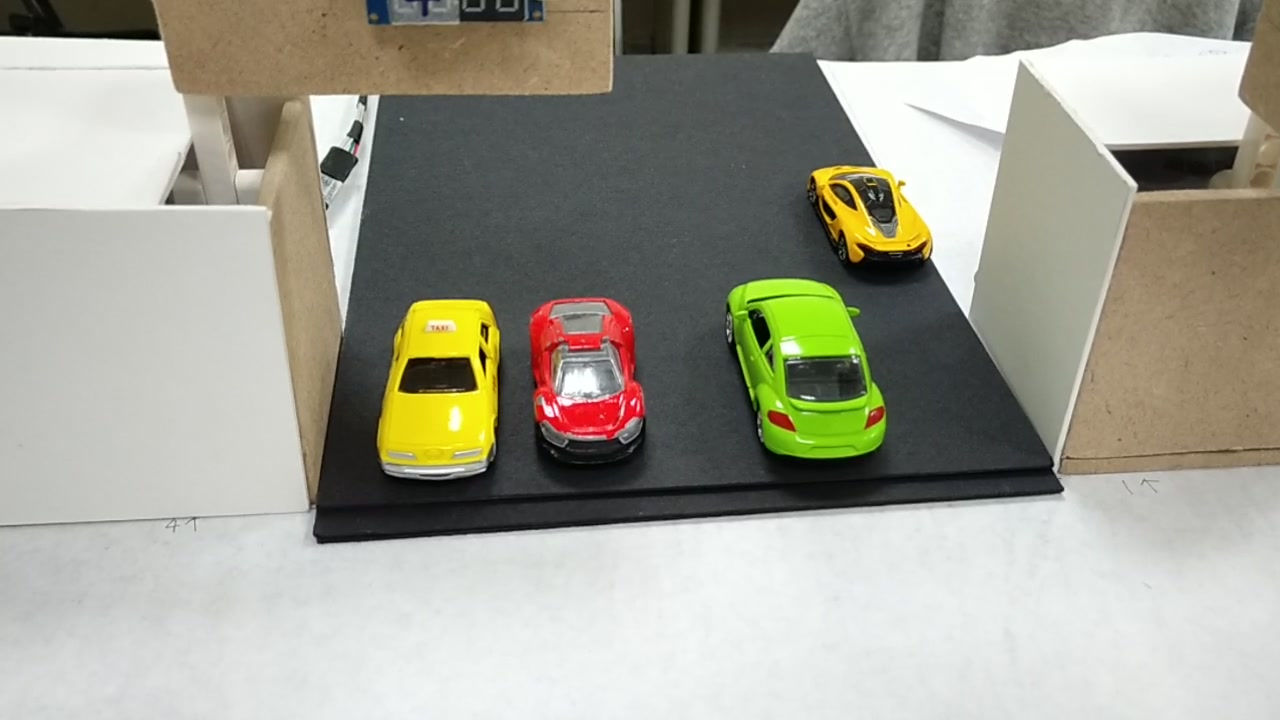car: (726, 275, 889, 460), (527, 287, 645, 465), (379, 297, 499, 471), (800, 154, 930, 270)
